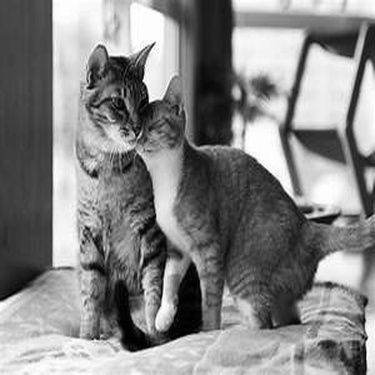cat: (137, 70, 371, 330), (71, 38, 166, 337)
